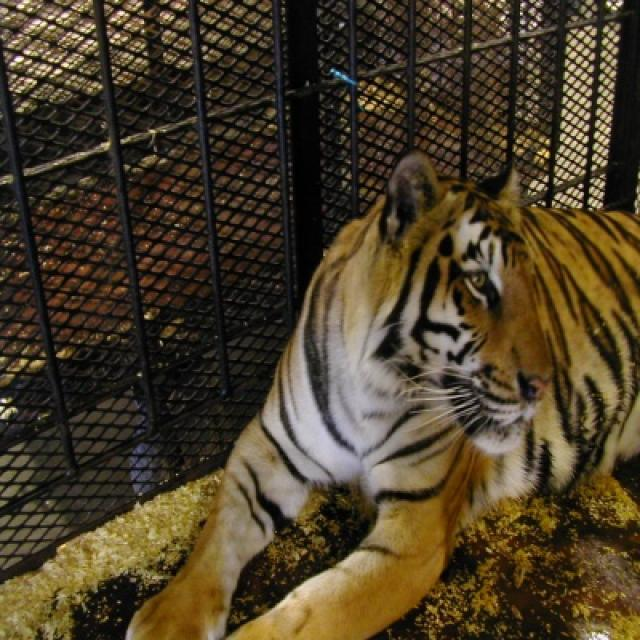Tiger: (126, 150, 638, 638)
